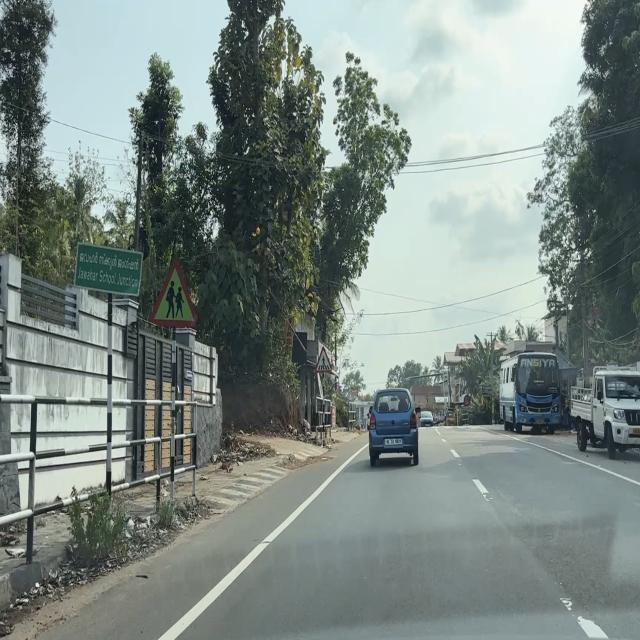GENERAL: (73, 240, 144, 298)
PEDESTRIAN_CROSSING: (315, 346, 332, 373)
SCHOOL_AHEAD: (149, 258, 198, 329)
